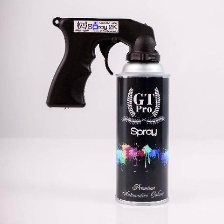aerosol_cans: (111, 37, 171, 209)
